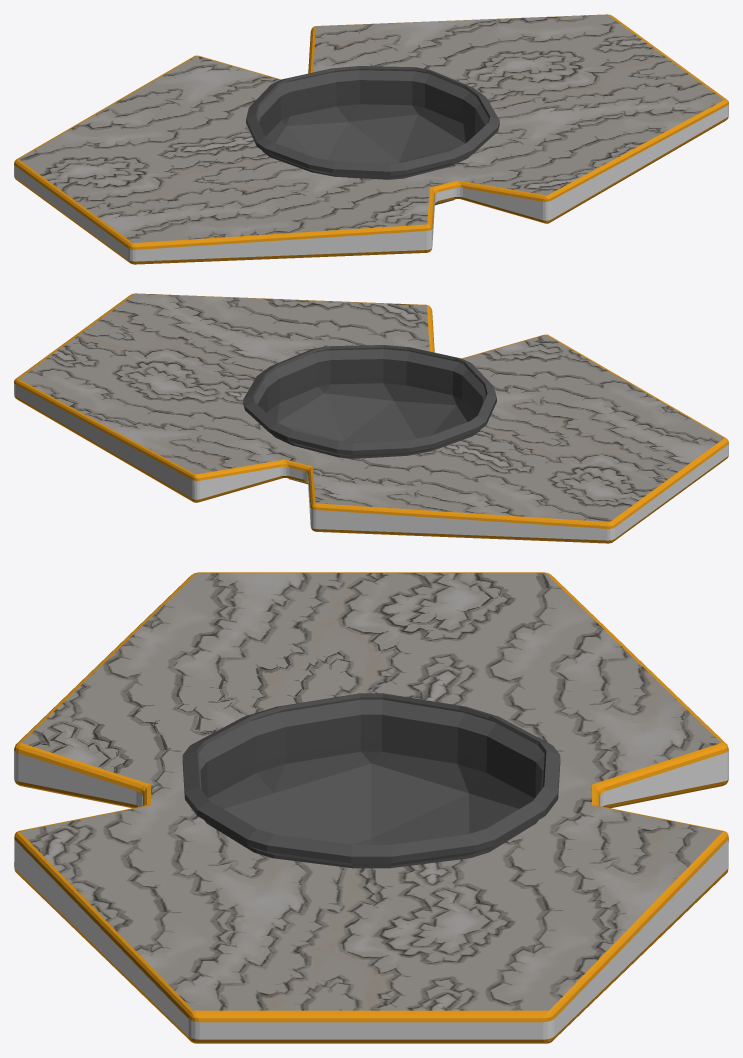
Rendered from DiceTable.fbx.
3 renders of one model, top to bottom at view 1: azimuth 30°, elevation 25°; view 2: azimuth 150°, elevation 25°; view 3: azimuth 270°, elevation 25°, orthographic. The views are drawn at different scales.
Parts seen in each view (by area): view 1: DiceTable; view 2: DiceTable; view 3: DiceTable.
Boxes of the visible parts, box(x1,y1,x2,y2) form: DiceTable: box(14, 14, 728, 264); DiceTable: box(14, 293, 728, 543); DiceTable: box(14, 572, 728, 1043).
Bounding box in the file's own units: 200 × 26.11 × 136.
